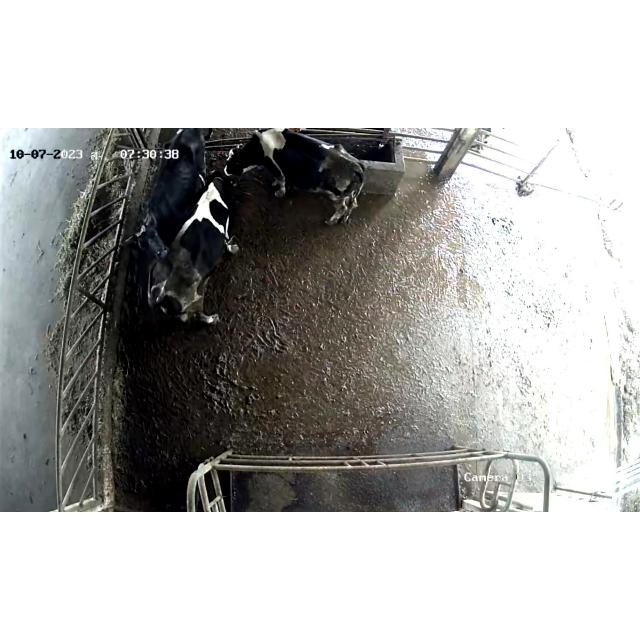propping: (111, 210, 213, 276)
